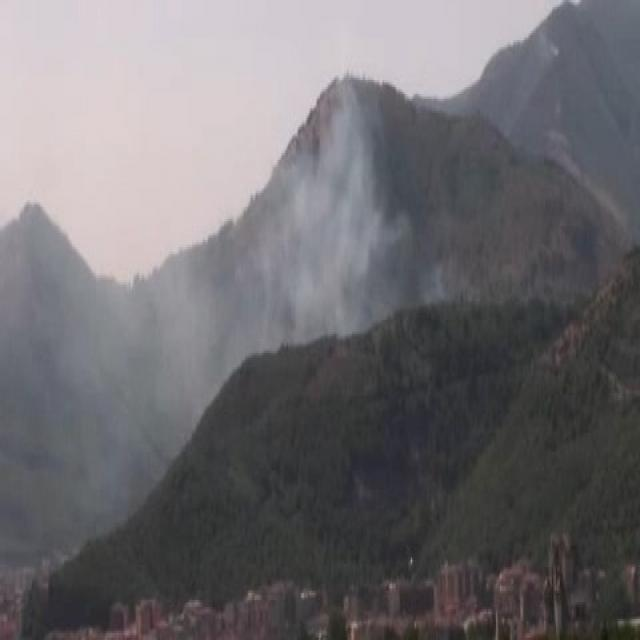smoke: (254, 116, 382, 342), (16, 292, 194, 444)
